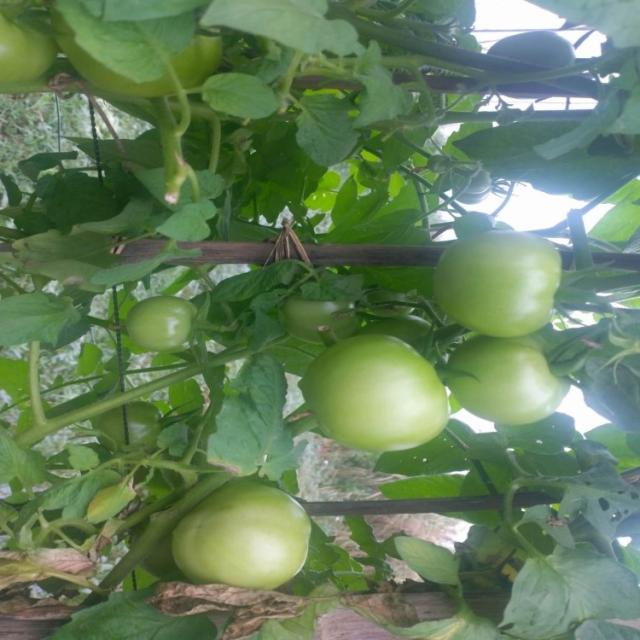tomato: (422, 208, 585, 347), (414, 319, 591, 439), (170, 475, 329, 595), (300, 321, 430, 465), (111, 295, 226, 369), (1, 14, 69, 99), (95, 394, 171, 452)
